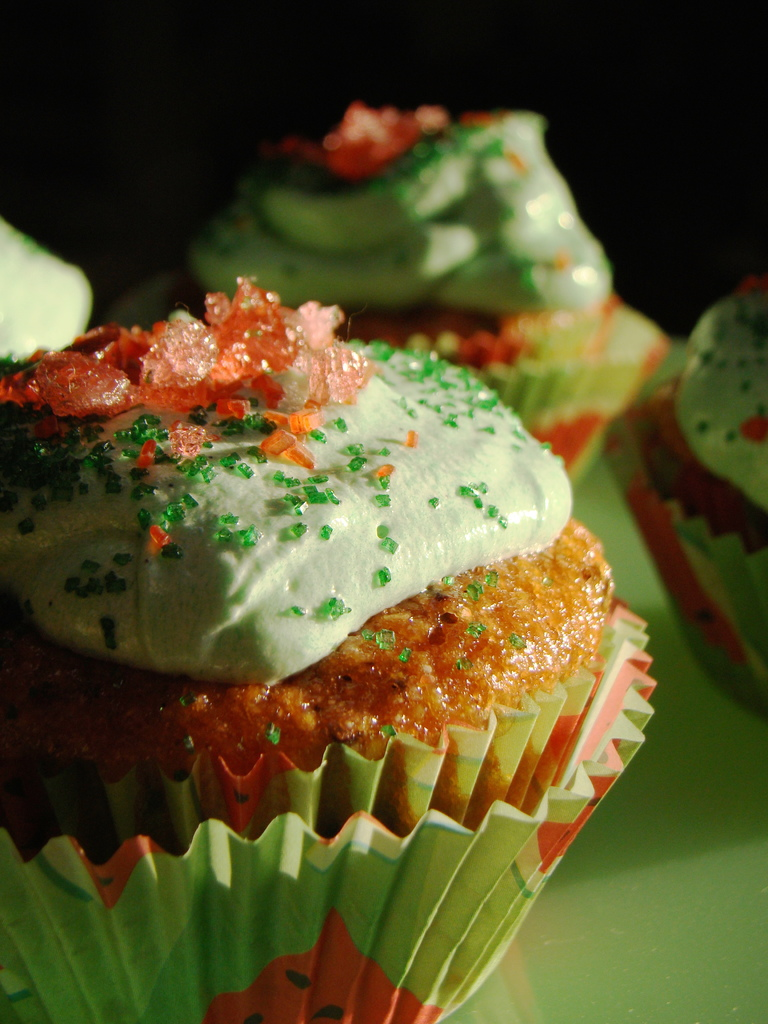cake: (0, 267, 623, 874), (114, 90, 647, 379), (630, 253, 767, 564)
